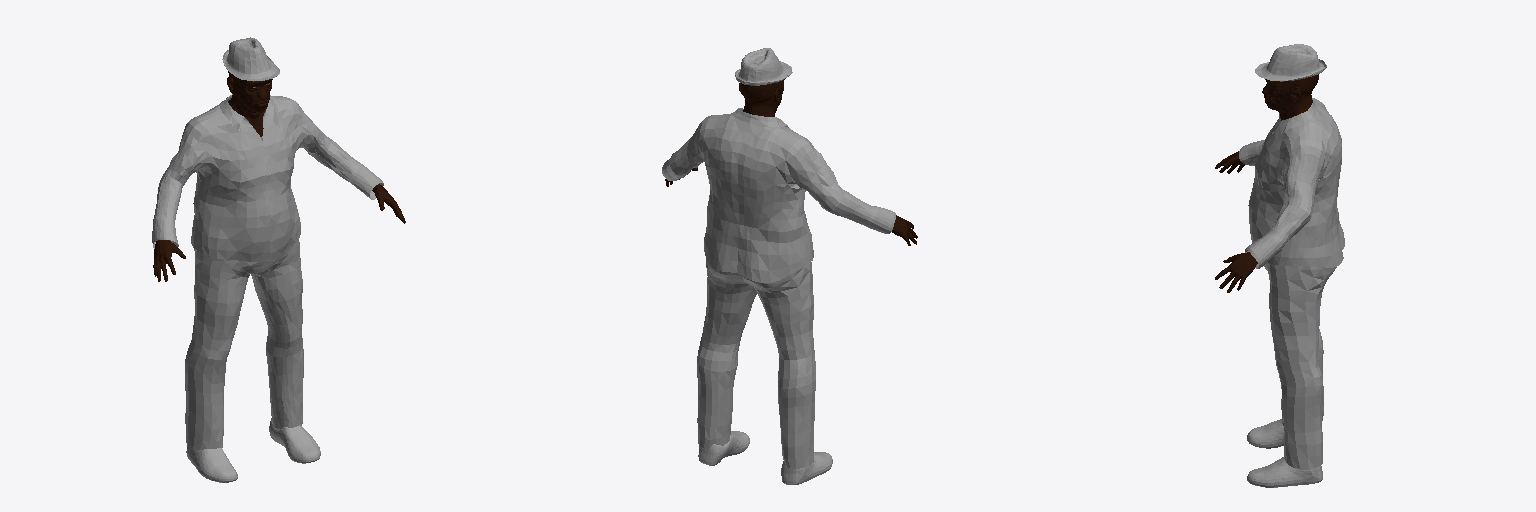
File: john.obj
The picture shows the model from 3 angles: view 1: azimuth 30°, elevation 25°; view 2: azimuth 150°, elevation 25°; view 3: azimuth 270°, elevation 25°; orthographic projection.
Parts seen in each view (by area): view 1: john-male_casualsuit03, john-base, john-shoes06, john-fedora; view 2: john-male_casualsuit03, john-shoes06, john-base, john-fedora; view 3: john-male_casualsuit03, john-base, john-shoes06, john-fedora.
Boxes of the visible parts, <box> form: john-male_casualsuit03: <box>152,94,383,449</box>; john-base: <box>153,71,405,281</box>; john-shoes06: <box>186,418,320,482</box>; john-fedora: <box>222,37,279,81</box>; john-male_casualsuit03: <box>662,108,895,468</box>; john-shoes06: <box>698,431,832,484</box>; john-base: <box>665,79,917,245</box>; john-fedora: <box>735,48,792,85</box>; john-male_casualsuit03: <box>1239,98,1344,469</box>; john-base: <box>1215,74,1318,292</box>; john-shoes06: <box>1247,419,1322,487</box>; john-fedora: <box>1255,44,1326,81</box>.
Size of the model in its own units: 1.02 by 1.64 by 0.4655.